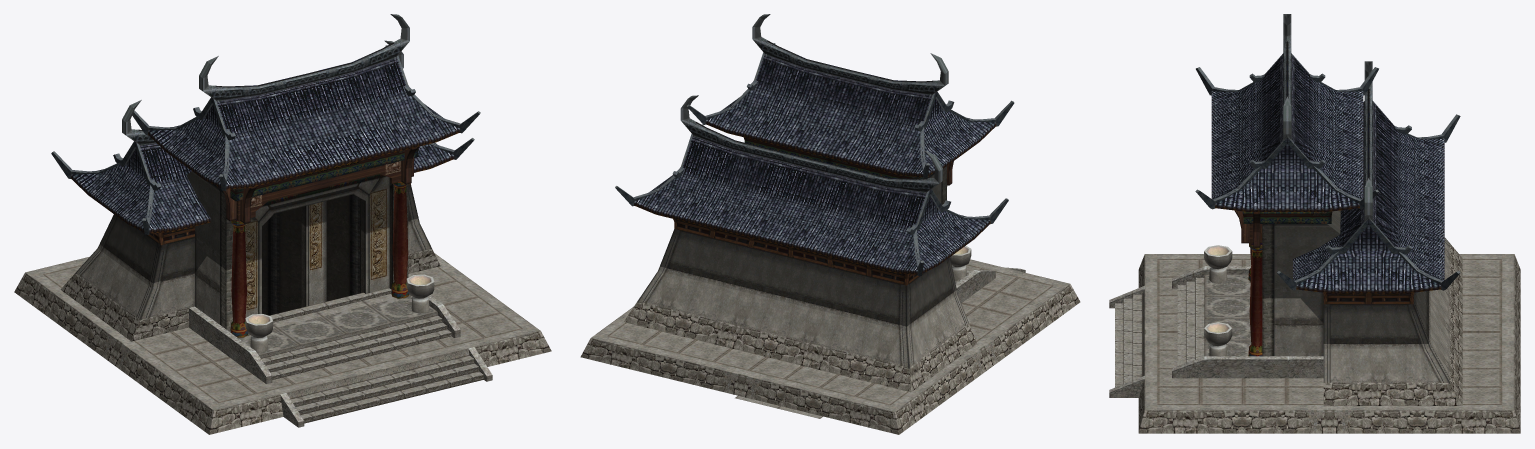
File: spider_dungeongate_up.fbx
3 views of the same model, side by side, from view 1: azimuth 30°, elevation 25°; view 2: azimuth 150°, elevation 25°; view 3: azimuth 270°, elevation 25° (orthographic). The views are drawn at different scales.
Parts seen in each view (by area): view 1: spider_dungeongate_up01; view 2: spider_dungeongate_up01; view 3: spider_dungeongate_up01.
Boxes of the visible parts, x1,y1,x2,y2 form: spider_dungeongate_up01: [14, 14, 551, 434]; spider_dungeongate_up01: [580, 14, 1080, 434]; spider_dungeongate_up01: [1109, 14, 1520, 433].
Bounding box in the file's own units: 16.52 × 15.98 × 17.55.
